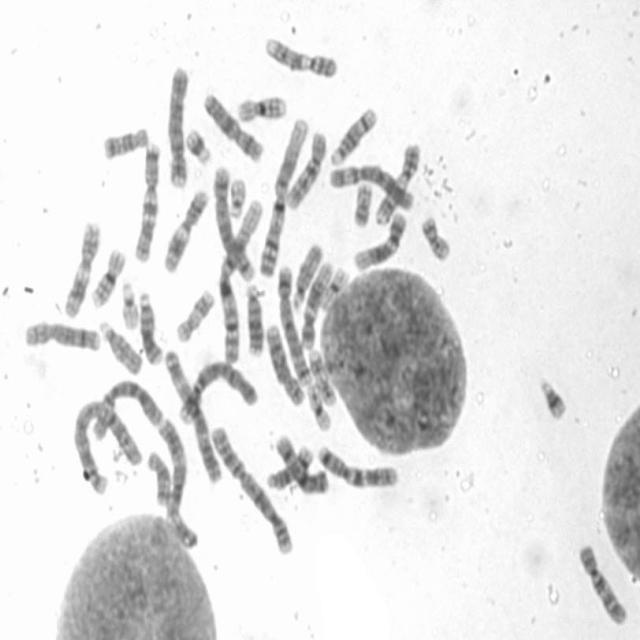A1: (214, 195, 266, 367), (258, 113, 311, 279)
A2: (206, 420, 294, 558), (69, 393, 142, 497)
A3: (160, 343, 224, 485), (153, 412, 198, 550)
B4: (174, 354, 261, 426), (164, 59, 192, 189)
B5: (209, 160, 257, 283), (274, 260, 313, 388)
C10: (574, 537, 630, 627), (283, 123, 329, 211)
C11: (160, 184, 211, 274), (60, 214, 102, 320)
C12: (350, 206, 409, 272), (297, 256, 334, 351)
C6: (86, 372, 164, 442), (326, 159, 416, 212)
C7: (313, 438, 401, 490), (131, 136, 164, 264)
C8: (262, 318, 308, 408), (19, 314, 103, 353)
C9: (372, 138, 422, 226), (261, 30, 340, 79)
D13: (136, 285, 164, 366), (240, 278, 266, 358)
D14: (327, 101, 380, 168), (262, 440, 314, 490)
D15: (96, 314, 145, 376), (288, 236, 324, 311)
E16: (88, 241, 128, 309), (234, 88, 288, 124)
E17: (172, 282, 216, 344), (305, 343, 338, 407)
E18: (98, 120, 150, 162), (144, 444, 174, 506)
F19: (317, 260, 350, 310), (304, 380, 334, 432)
F20: (418, 210, 454, 262), (350, 178, 374, 228)
G21: (533, 370, 570, 423), (182, 122, 214, 167)
G22: (118, 276, 140, 330), (226, 172, 248, 220)
X: (200, 85, 266, 163), (272, 429, 330, 497)
